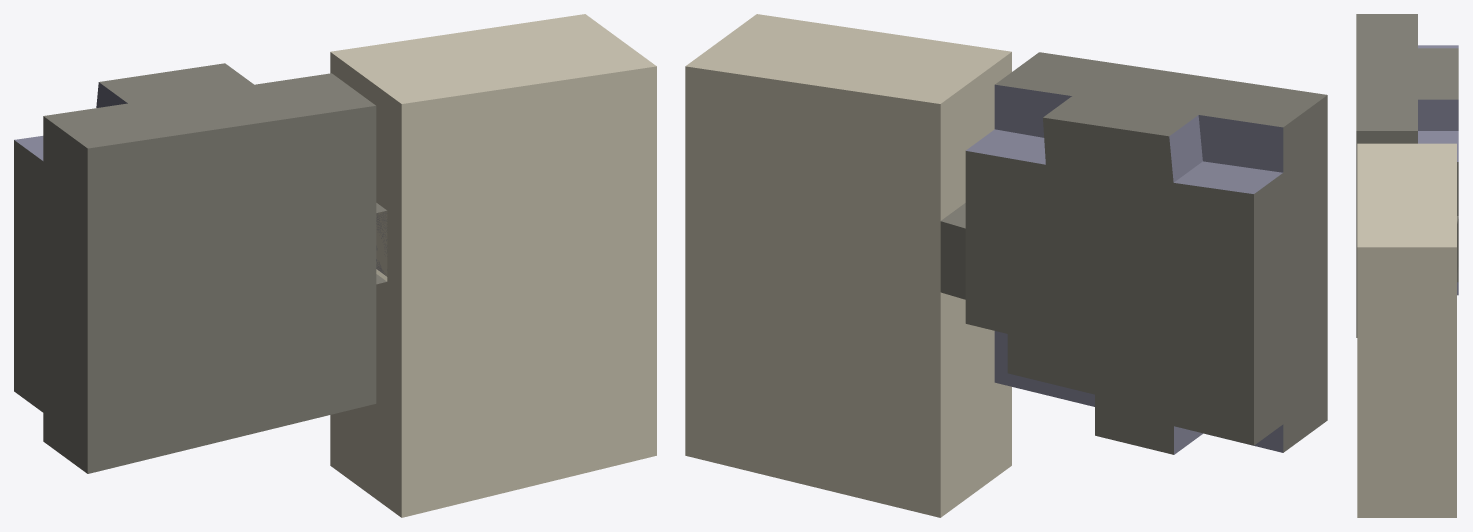
The model's file is CR1_DoorAngle1_ubersimplified.obj.
The picture shows the model from 3 angles, left to right: view 1: azimuth 30°, elevation 25°; view 2: azimuth 150°, elevation 25°; view 3: azimuth 270°, elevation 25°; orthographic projection. The views are drawn at different scales.
Visible parts, largest first — view 1: obj1, obj3, obj4, obj7, obj5, obj37, obj35, obj31; view 2: obj32, obj28, obj4, obj7, obj5, obj37, obj35, obj10, obj33, obj16, obj12, obj25 (+3 smaller); view 3: obj8, obj7, obj5, obj6, obj18, obj17, obj12.
Part boxes in pixels (left/top/right/bottom): obj1: left=401, top=66, right=656, bottom=517; obj3: left=87, top=106, right=376, bottom=473; obj4: left=14, top=116, right=87, bottom=473; obj7: left=330, top=14, right=656, bottom=103; obj5: left=44, top=63, right=375, bottom=148; obj37: left=330, top=197, right=401, bottom=517; obj35: left=330, top=52, right=401, bottom=210; obj31: left=376, top=210, right=387, bottom=276; obj32: left=685, top=66, right=940, bottom=517; obj28: left=965, top=133, right=1253, bottom=454; obj4: left=1254, top=95, right=1327, bottom=452; obj7: left=686, top=14, right=1011, bottom=103; obj5: left=995, top=52, right=1326, bottom=136; obj37: left=940, top=292, right=1011, bottom=517; obj35: left=940, top=52, right=1011, bottom=220; obj10: left=1198, top=115, right=1283, bottom=172; obj33: left=1043, top=117, right=1173, bottom=182; obj16: left=994, top=84, right=1071, bottom=137; obj12: left=1174, top=161, right=1282, bottom=193; obj25: left=994, top=331, right=1094, bottom=406; obj8: left=1357, top=247, right=1456, bottom=517; obj7: left=1357, top=143, right=1456, bottom=247; obj5: left=1356, top=14, right=1458, bottom=130; obj6: left=1356, top=131, right=1458, bottom=337; obj18: left=1418, top=99, right=1458, bottom=130; obj17: left=1418, top=131, right=1458, bottom=161; obj12: left=1418, top=45, right=1458, bottom=48.
Bounding box in the file's own units: 486 × 364 × 109.
